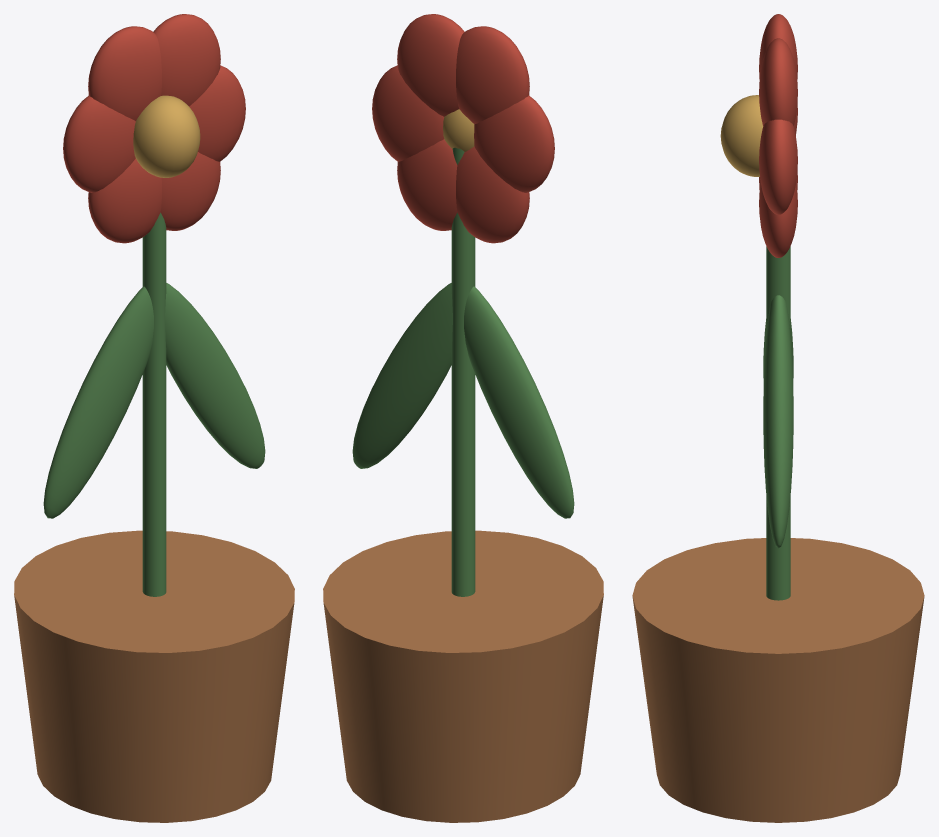
File: wp-tulipe.glb
The picture shows the model from 3 angles, left to right: view 1: azimuth 30°, elevation 25°; view 2: azimuth 150°, elevation 25°; view 3: azimuth 270°, elevation 25°; orthographic projection.
Visible parts, largest first — view 1: wp-tulipe; view 2: wp-tulipe; view 3: wp-tulipe.
Part boxes in pixels (x1,y1,x2,y2): wp-tulipe: (14, 14, 294, 822); wp-tulipe: (323, 14, 603, 822); wp-tulipe: (632, 14, 924, 822).
Bounding box in the file's own units: 0.1511 × 0.45 × 0.16.
